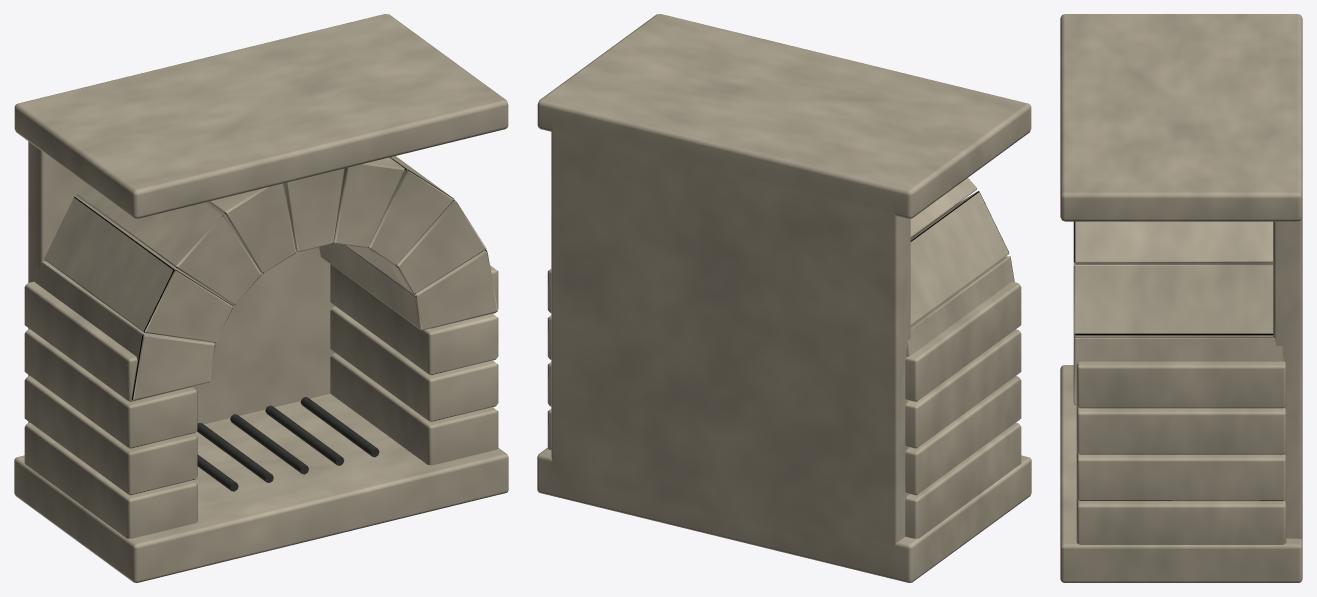
File: Furn_Furnace.fbx
3 renders of one model, left to right at view 1: azimuth 30°, elevation 25°; view 2: azimuth 150°, elevation 25°; view 3: azimuth 270°, elevation 25°, orthographic.
Parts seen in each view (by area): view 1: Furn_Furnace_Mesh; view 2: Furn_Furnace_Mesh; view 3: Furn_Furnace_Mesh.
Boxes of the visible parts, x1,y1,x2,y2 form: Furn_Furnace_Mesh: (14, 14, 508, 582); Furn_Furnace_Mesh: (537, 14, 1031, 582); Furn_Furnace_Mesh: (1060, 14, 1302, 582).
Size of the model in its own units: 1.6 by 1.6 by 0.9.
2 materials, 2 textured.
